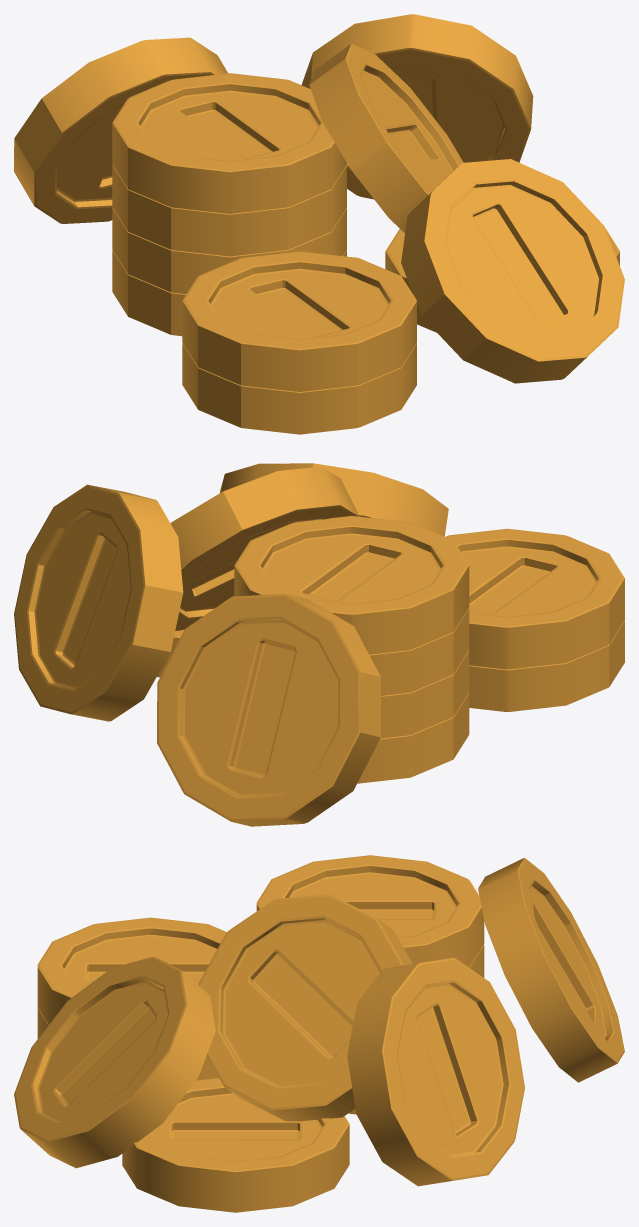
File: Artefak Coin.fbx
3 views of the same model, one above another, from view 1: azimuth 30°, elevation 25°; view 2: azimuth 150°, elevation 25°; view 3: azimuth 270°, elevation 25° (orthographic). The views are drawn at different scales.
Visible parts, largest first — view 1: Coin.006; view 2: Coin.006; view 3: Coin.006.
Boxes of the visible parts, box(x1,y1,x2,y2) form: Coin.006: box(14, 14, 624, 434); Coin.006: box(14, 463, 624, 826); Coin.006: box(14, 855, 624, 1212).
Size of the model in its own units: 451 by 220 by 536.
